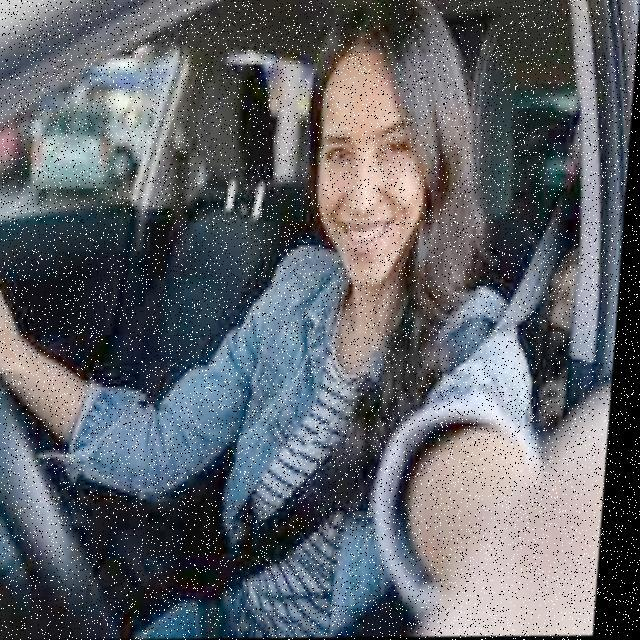seatbelt: (241, 249, 505, 596)
